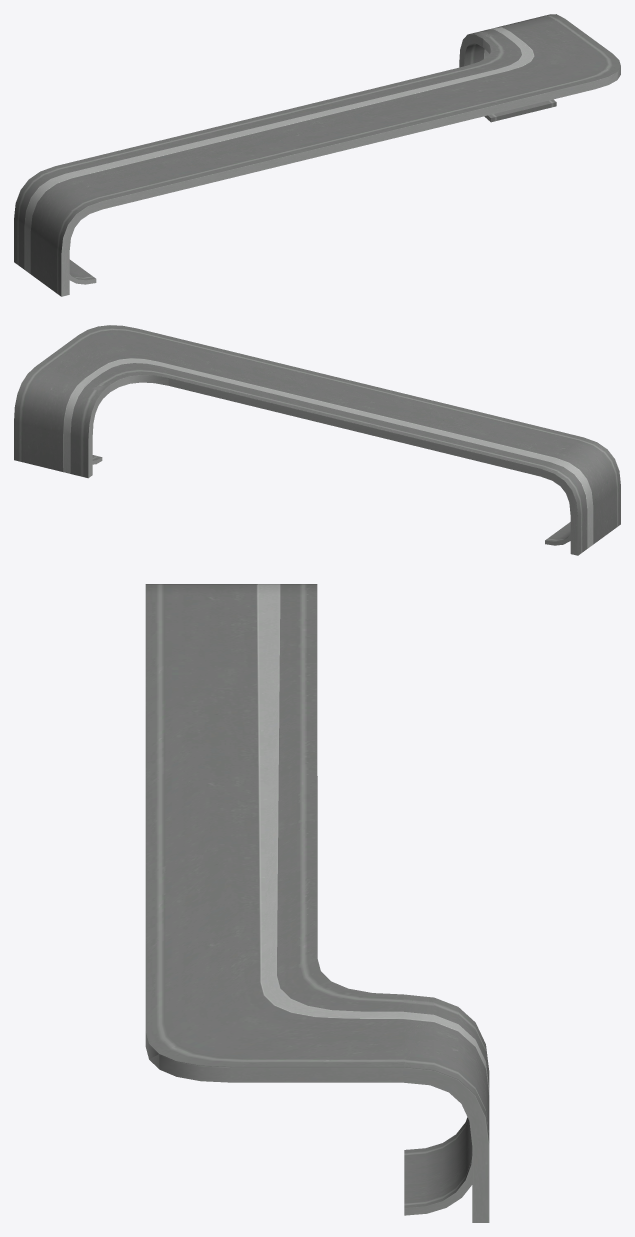
Rendered from Club_BarTable_01.FBX.
3 views of the same model, one above another, from view 1: azimuth 30°, elevation 25°; view 2: azimuth 150°, elevation 25°; view 3: azimuth 270°, elevation 25° (orthographic). The views are drawn at different scales.
Visible parts, largest first — view 1: Club_BarTable_01; view 2: Club_BarTable_01; view 3: Club_BarTable_01.
Boxes of the visible parts, bbox=[...] form: Club_BarTable_01: bbox=[14, 14, 620, 296]; Club_BarTable_01: bbox=[14, 325, 620, 555]; Club_BarTable_01: bbox=[145, 584, 489, 1222].
Size of the model in its own units: 7 by 1 by 2.
